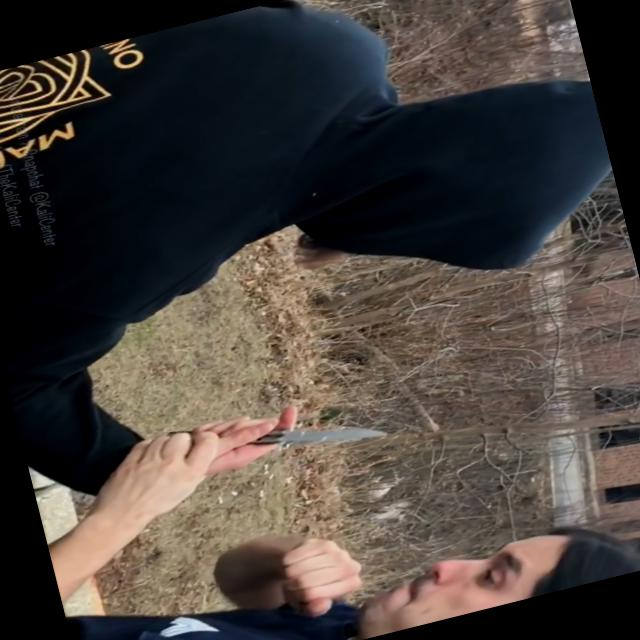knife: (188, 374, 400, 490)
